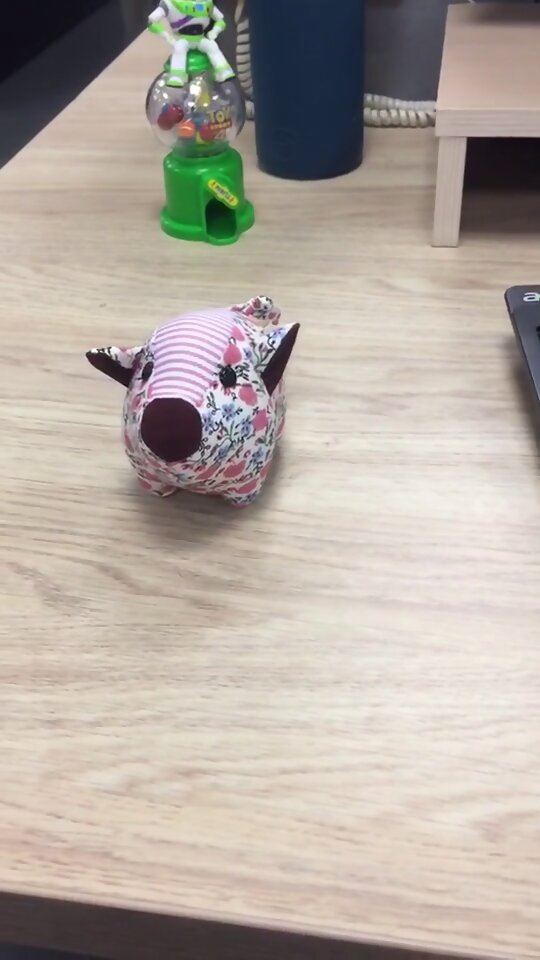pig: (82, 293, 299, 507)
